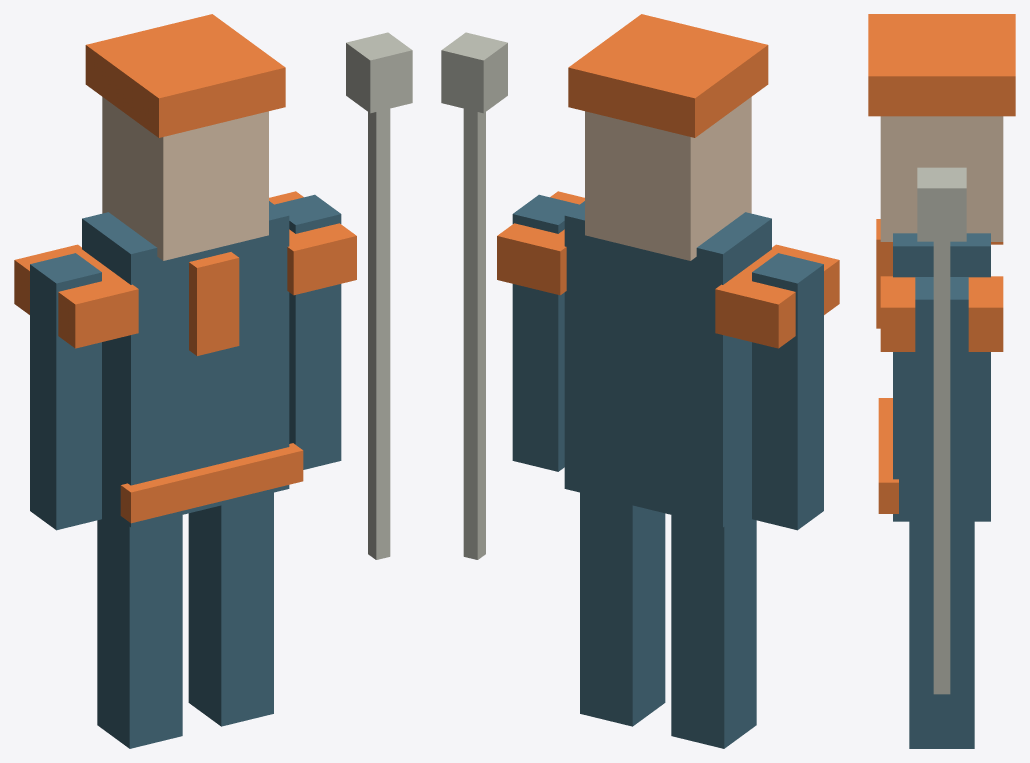
Rendered from 09_selka_runeclasp_smith_from_ember.glb.
3 views of the same model, side by side, from view 1: azimuth 30°, elevation 25°; view 2: azimuth 150°, elevation 25°; view 3: azimuth 270°, elevation 25° (orthographic).
Visible parts, largest first — view 1: Selka Runeclasp, Smith from Ember; view 2: Selka Runeclasp, Smith from Ember; view 3: Selka Runeclasp, Smith from Ember.
Boxes of the visible parts, x1,y1,x2,y2 form: Selka Runeclasp, Smith from Ember: [14, 14, 412, 748]; Selka Runeclasp, Smith from Ember: [441, 14, 839, 748]; Selka Runeclasp, Smith from Ember: [868, 14, 1015, 748].
Size of the model in its own units: 0.9608 by 1.71 by 0.3408.
